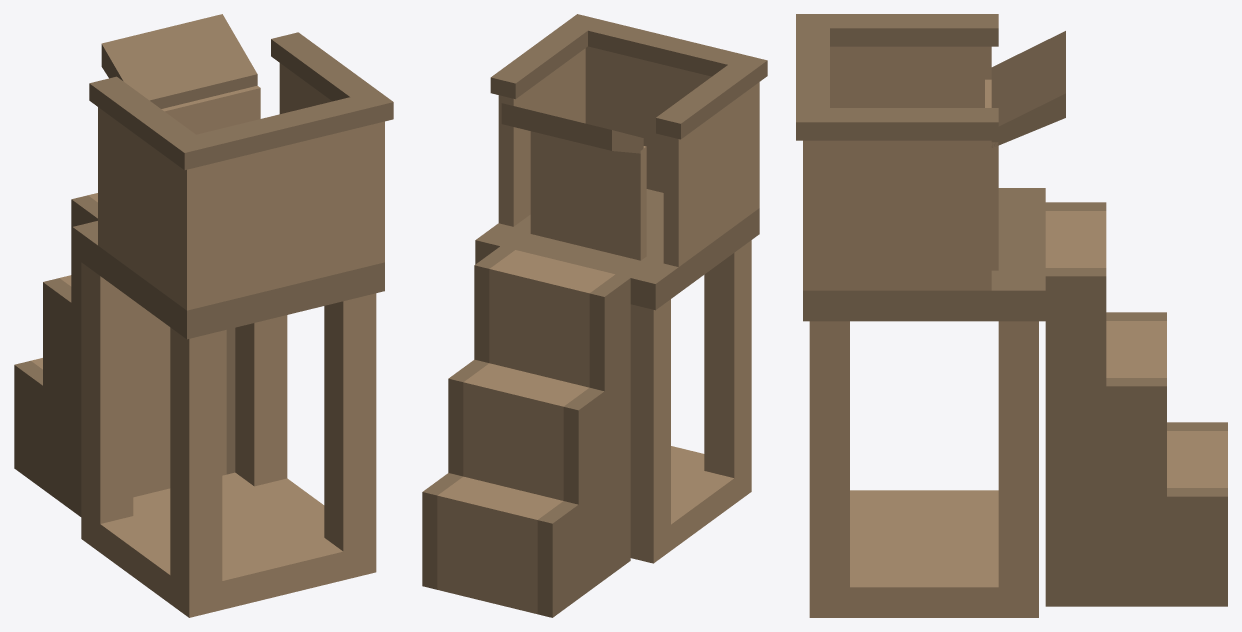
Rendered from prop-chapel-pulpit-wood.fbx.
The picture shows the model from 3 angles, left to right: view 1: azimuth 30°, elevation 25°; view 2: azimuth 150°, elevation 25°; view 3: azimuth 270°, elevation 25°; orthographic projection. The views are drawn at different scales.
Parts seen in each view (by area): view 1: prop-chapel-pulpit-wood; view 2: prop-chapel-pulpit-wood; view 3: prop-chapel-pulpit-wood.
Boxes of the visible parts, bbox=[...] form: prop-chapel-pulpit-wood: bbox=[14, 14, 393, 617]; prop-chapel-pulpit-wood: bbox=[422, 14, 767, 617]; prop-chapel-pulpit-wood: bbox=[796, 14, 1227, 617].
Bounding box in the file's own units: 0.76 × 1.66 × 1.28.
